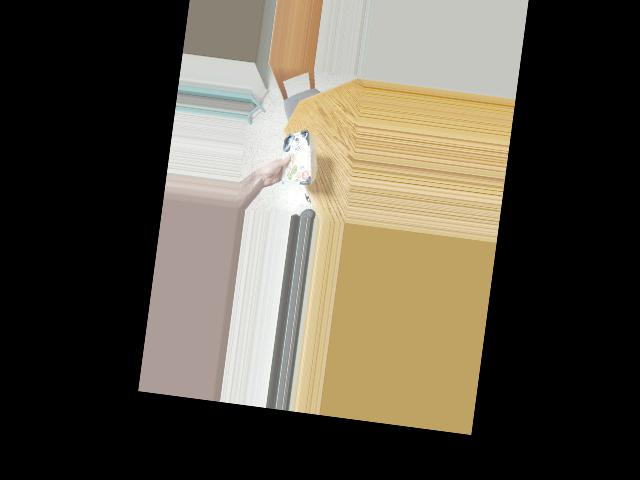cheese: (273, 129, 318, 185)
